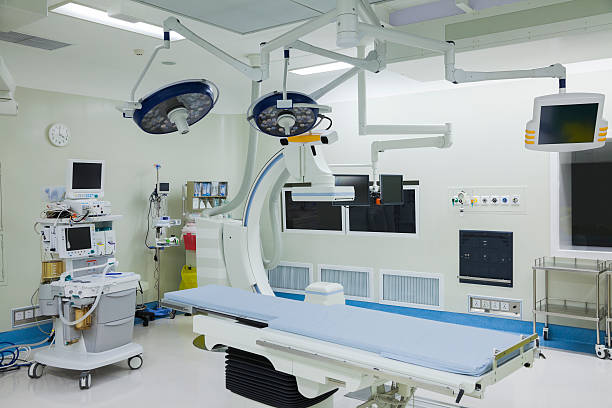bedside_monitor: (524, 93, 612, 156), (332, 170, 370, 206), (68, 159, 106, 194), (60, 226, 95, 259), (376, 172, 408, 207)
breathing_tube: (56, 262, 115, 327)
iv_pole: (144, 162, 173, 318)
medical_drawer: (95, 291, 136, 350)
operating_bed: (166, 286, 546, 408)
surgical_light: (120, 77, 221, 138), (244, 87, 332, 141)
syringe_pump: (151, 217, 182, 228), (156, 237, 182, 246)
utility_cart: (531, 254, 612, 357)
ventilator: (33, 194, 137, 356)
